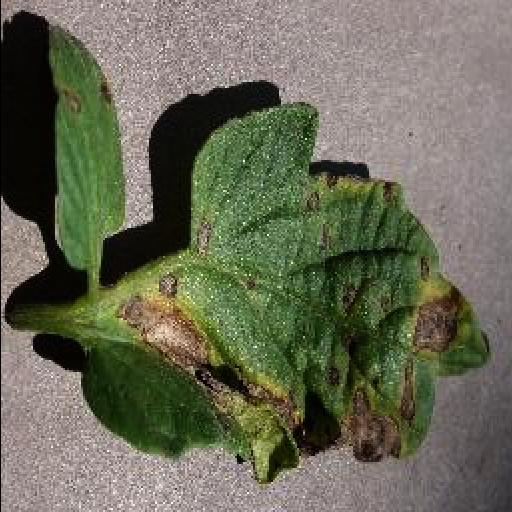disease_tomato: (78, 102, 488, 486)
